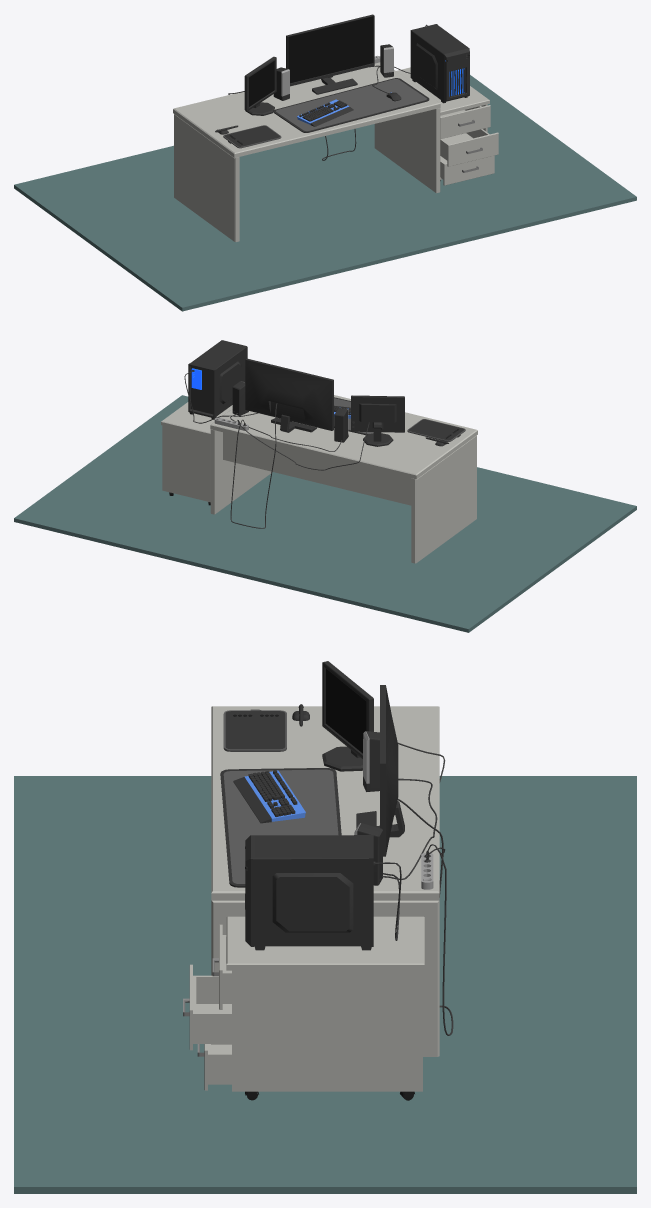
3 views of the same model, one above another, from view 1: azimuth 30°, elevation 25°; view 2: azimuth 150°, elevation 25°; view 3: azimuth 270°, elevation 25° (orthographic). The views are drawn at different scales.
Visible parts, largest first — view 1: pCube5, Table1, RightMonitor, Table2, Computer, Mat1, LeftMonitor, Tablet, Keyboard, SpeakerLeft, SpeakerRight; view 2: pCube5, Table1, RightMonitor, Table2, Computer, LeftMonitor, Tablet, SpeakerLeft, SpeakerRight; view 3: pCube5, Table2, Table1, Computer, Mat1, LeftMonitor, RightMonitor, Tablet, Keyboard, SpeakerLeft, MainMonitorCable, SpeakerRight.
Boxes of the visible parts, <box> form: pCube5: <box>14,75,636,311</box>; Table1: <box>173,62,440,241</box>; RightMonitor: <box>286,14,374,94</box>; Table2: <box>396,67,498,185</box>; Computer: <box>410,24,469,103</box>; Mat1: <box>273,78,429,132</box>; LeftMonitor: <box>244,56,276,115</box>; Tablet: <box>223,125,281,148</box>; Keyboard: <box>297,99,353,126</box>; SpeakerLeft: <box>273,67,289,100</box>; SpeakerRight: <box>380,44,393,77</box>; pCube5: <box>14,395,636,632</box>; Table1: <box>210,395,477,563</box>; RightMonitor: <box>245,358,333,432</box>; Table2: <box>161,402,232,505</box>; Computer: <box>188,340,247,419</box>; LeftMonitor: <box>351,395,404,446</box>; Tablet: <box>407,419,465,441</box>; SpeakerLeft: <box>334,407,348,442</box>; SpeakerRight: <box>232,381,248,415</box>; pCube5: <box>14,776,636,1193</box>; Table2: <box>183,916,424,1100</box>; Table1: <box>211,706,439,1056</box>; Computer: <box>245,834,373,950</box>; Mat1: <box>220,768,341,887</box>; LeftMonitor: <box>322,661,373,771</box>; RightMonitor: <box>356,685,404,856</box>; Tablet: <box>223,709,286,751</box>; Keyboard: <box>233,770,305,823</box>; SpeakerLeft: <box>363,731,379,791</box>; MainMonitorCable: <box>397,798,453,1035</box>; SpeakerRight: <box>354,823,382,885</box>.
Size of the model in its own units: 22.35 by 7.17 by 14.32.
